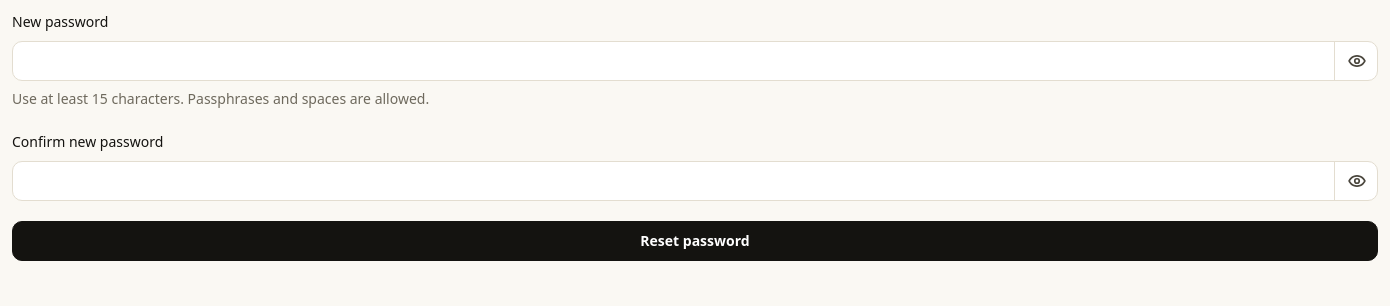
ResetPasswordForm › provides password and confirmation feedback before submission
Type "short" into the password field labelled "New password" at (695, 61), box x1=12 y1=41 x2=1378 y2=81
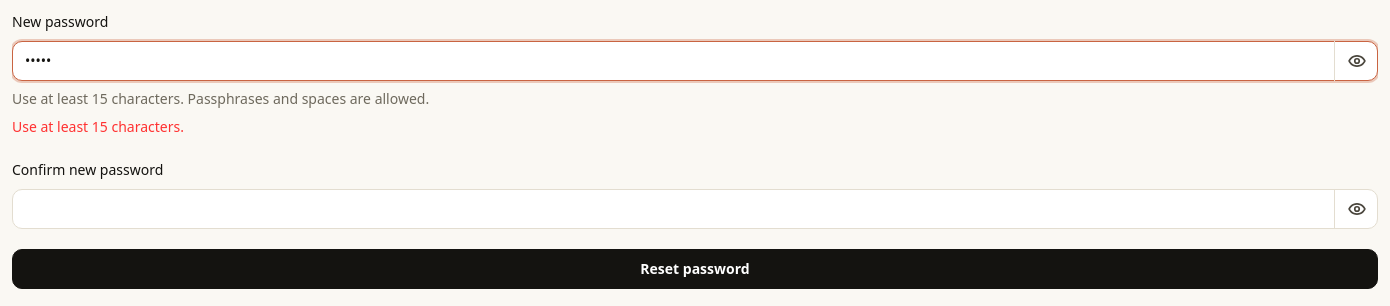
Expected: the text "Use at least 15 characters." is shown, x1=12 y1=117 x2=184 y2=136
Type "a sufficiently long password" into the password field labelled "New password" at (695, 61), box x1=12 y1=41 x2=1378 y2=81
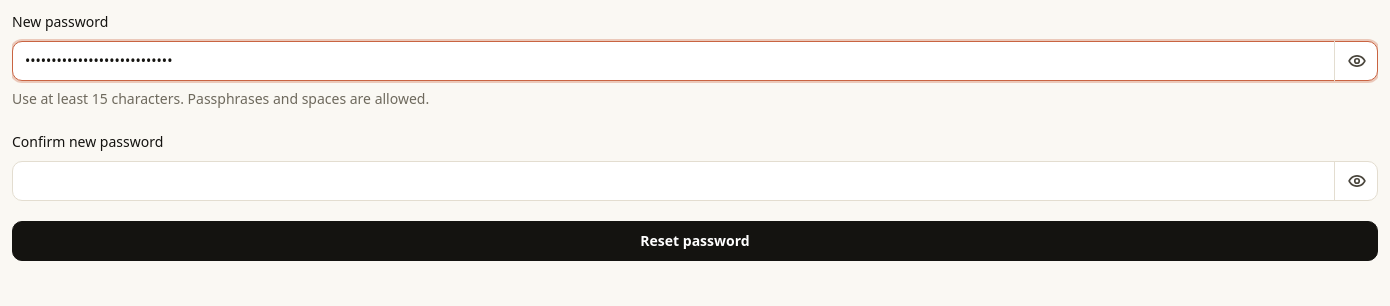
Type "a different long password" into the password field labelled "Confirm new password" at (695, 181), box x1=12 y1=161 x2=1378 y2=201
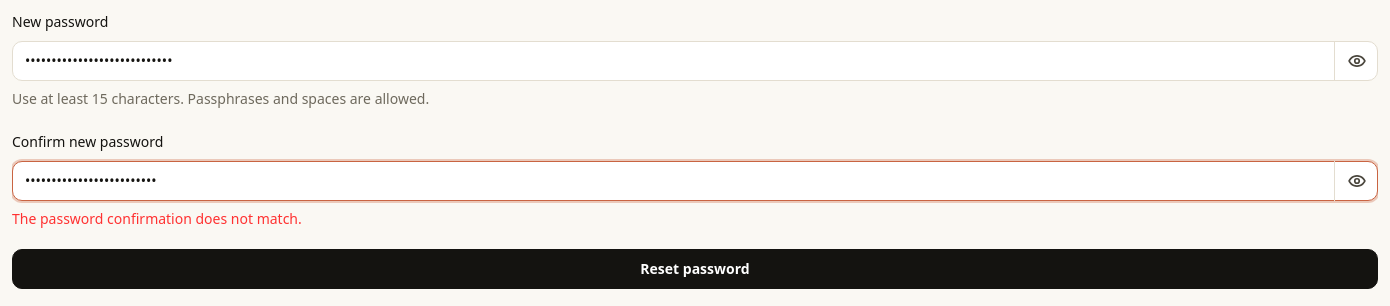
Expected: the text "The password confirmation does not match." is shown, x1=12 y1=209 x2=302 y2=228
